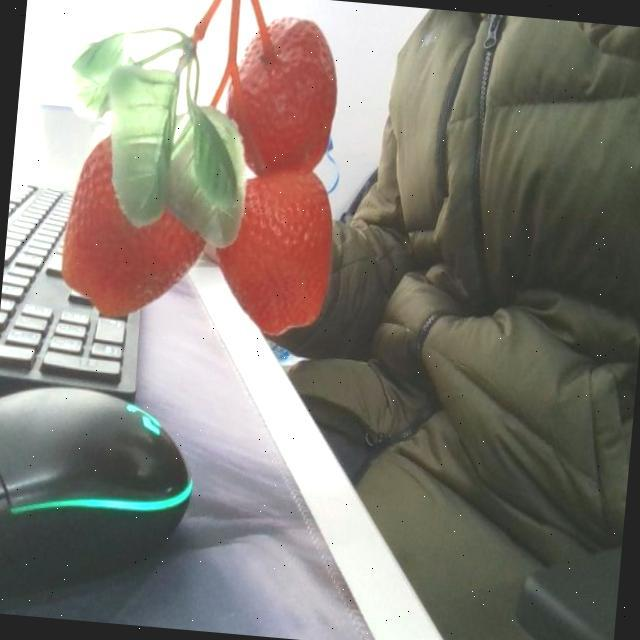ripe: (56, 116, 214, 325), (208, 156, 339, 340), (220, 2, 344, 178)
